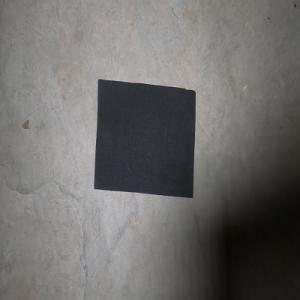PaintChip: (94, 78, 195, 198)
